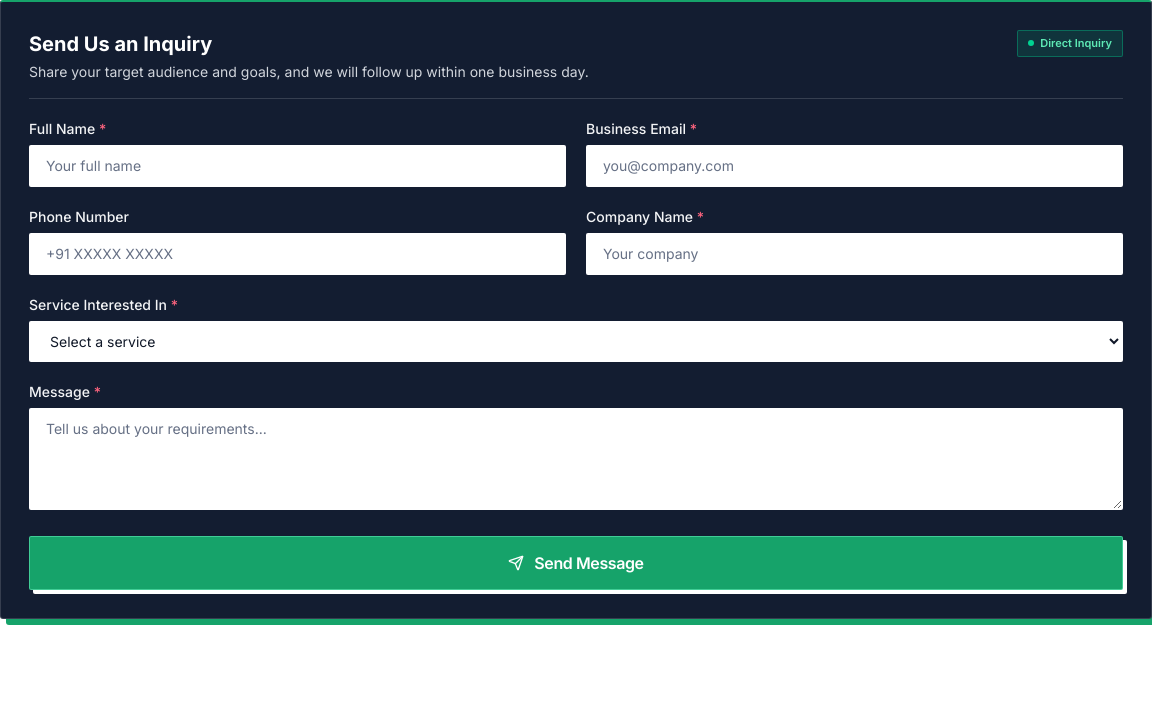
The Softnest Technologies Website & Contact Form › submits valid inquiry to Formspree endpoint with loading and success states
Later steps or results of the test are not shown.
Type "  Aarav Mehta  " into the field labelled "Full Name *" at (298, 166), box [29,145,566,187]
Type "aarav@acme.io" into the field labelled "Business Email *" at (854, 166), box [586,145,1123,187]
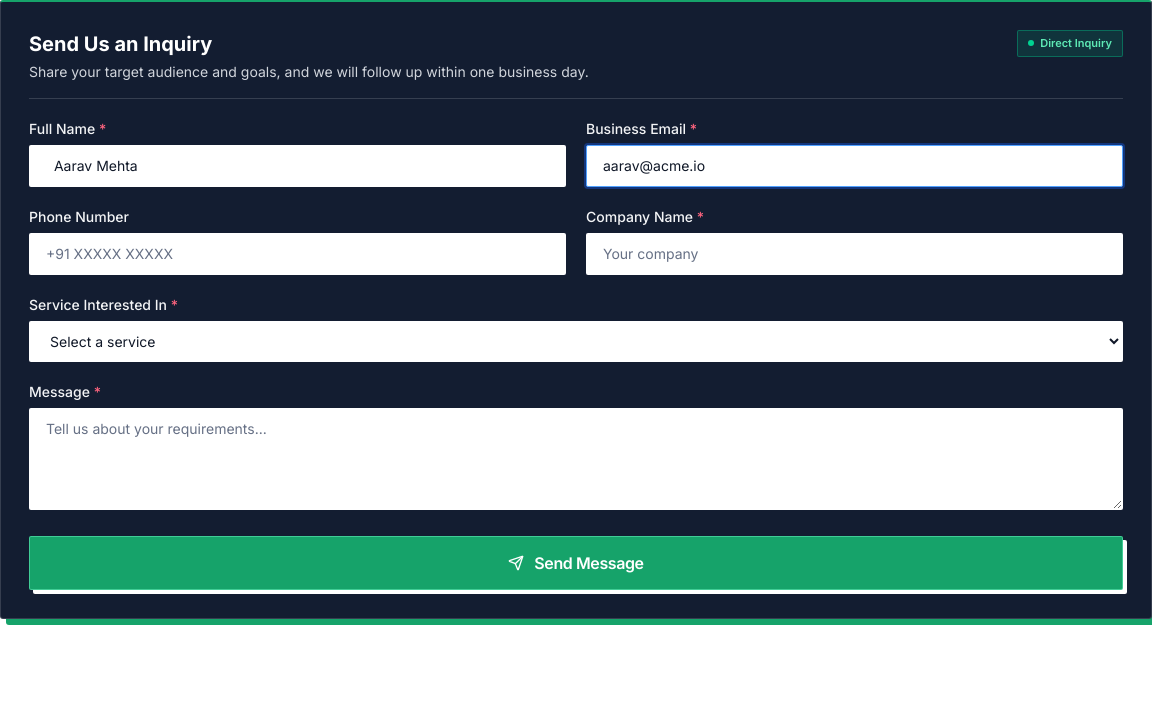
Type "+91 98765 43210" into the field labelled "Phone Number" at (298, 254), box [29,233,566,275]
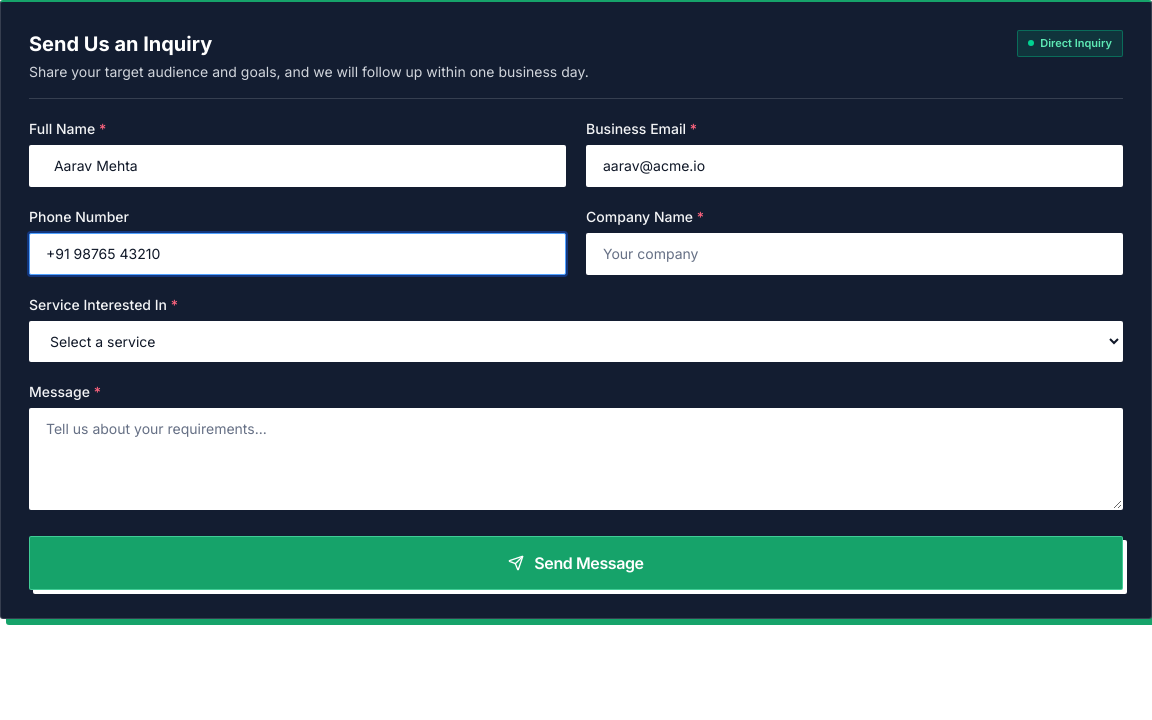
Type "Acme SaaS" into the field labelled "Company Name *" at (854, 254), box [586,233,1123,275]
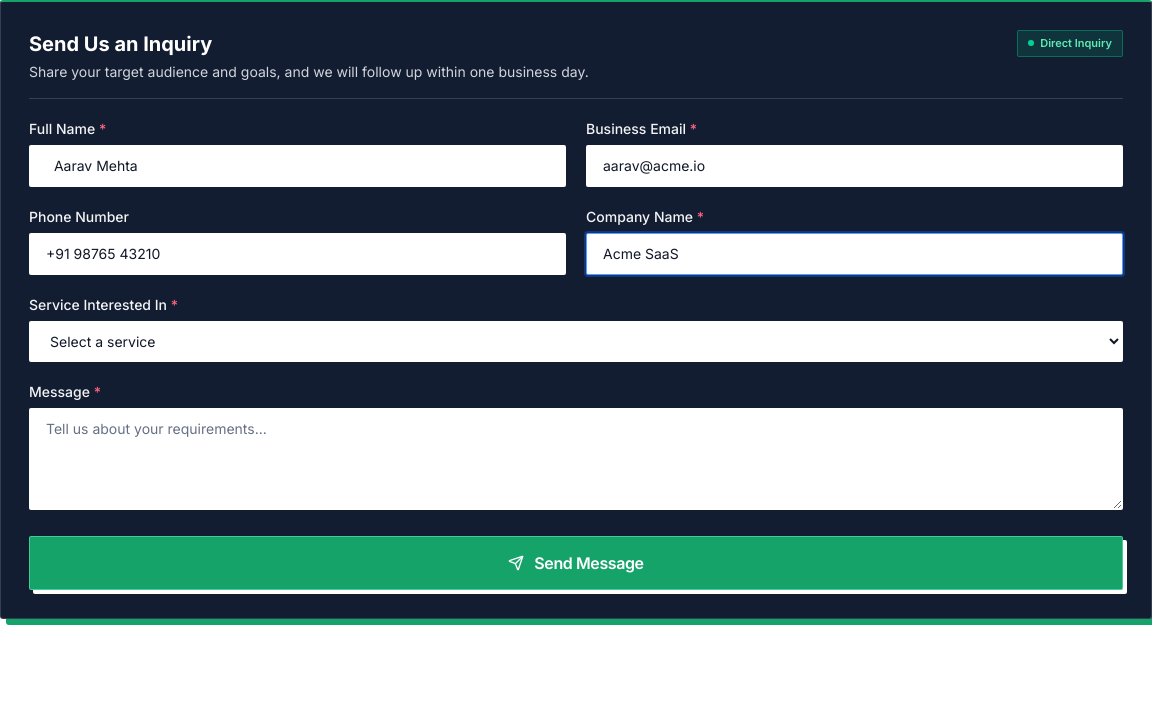
Select "IT & SaaS Lead Generation" in the dropdown labelled "Service Interested In *" at (576, 342), box [29,321,1123,362]
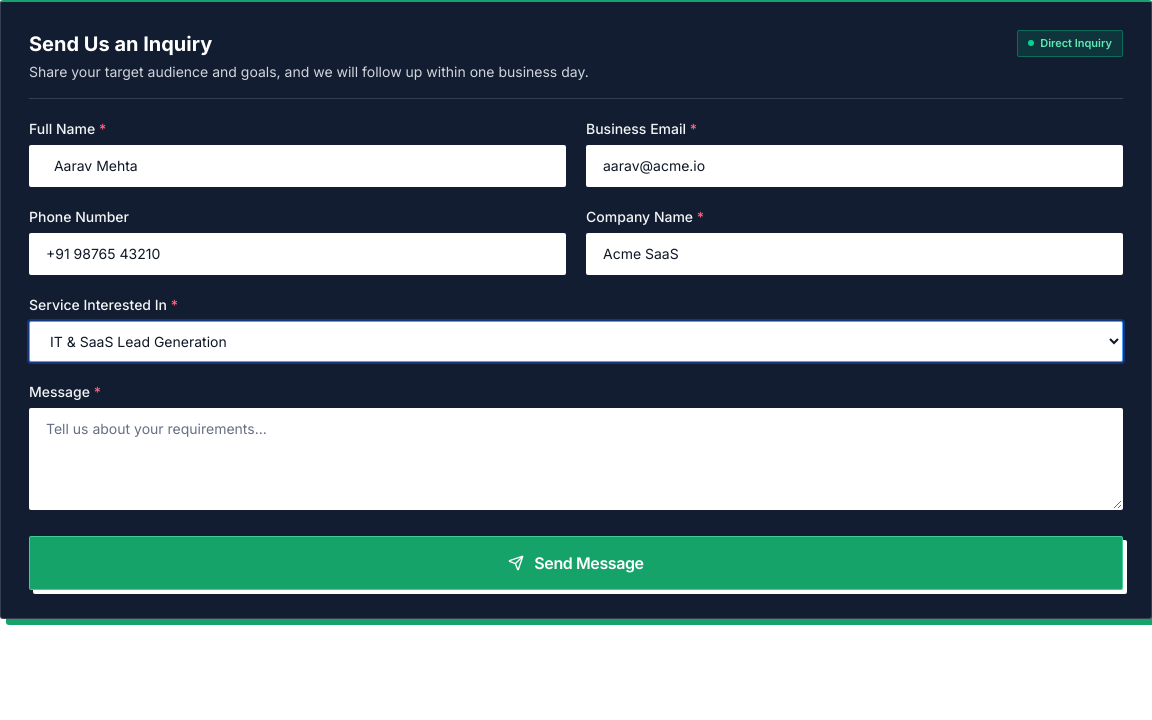
Type "Need B2B SaaS outbound leads." into the text box labelled "Message *" at (576, 459), box [29,408,1123,510]
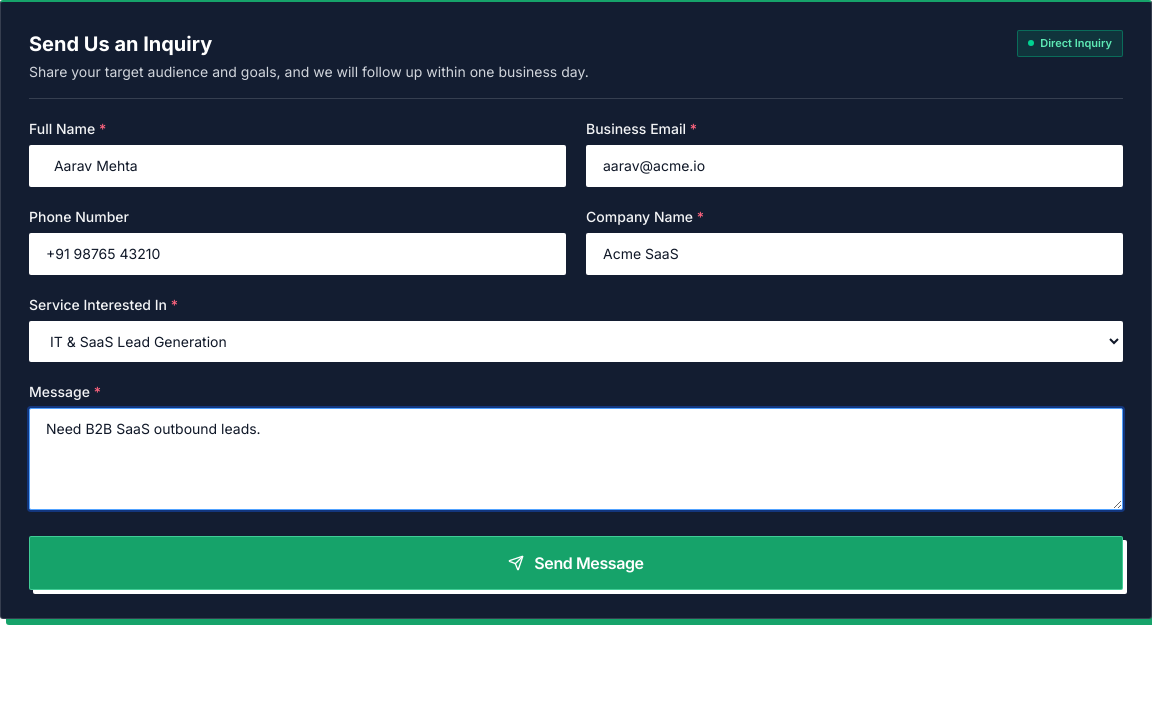
Click the button "Send Message" at (576, 563), box [29,536,1123,590]
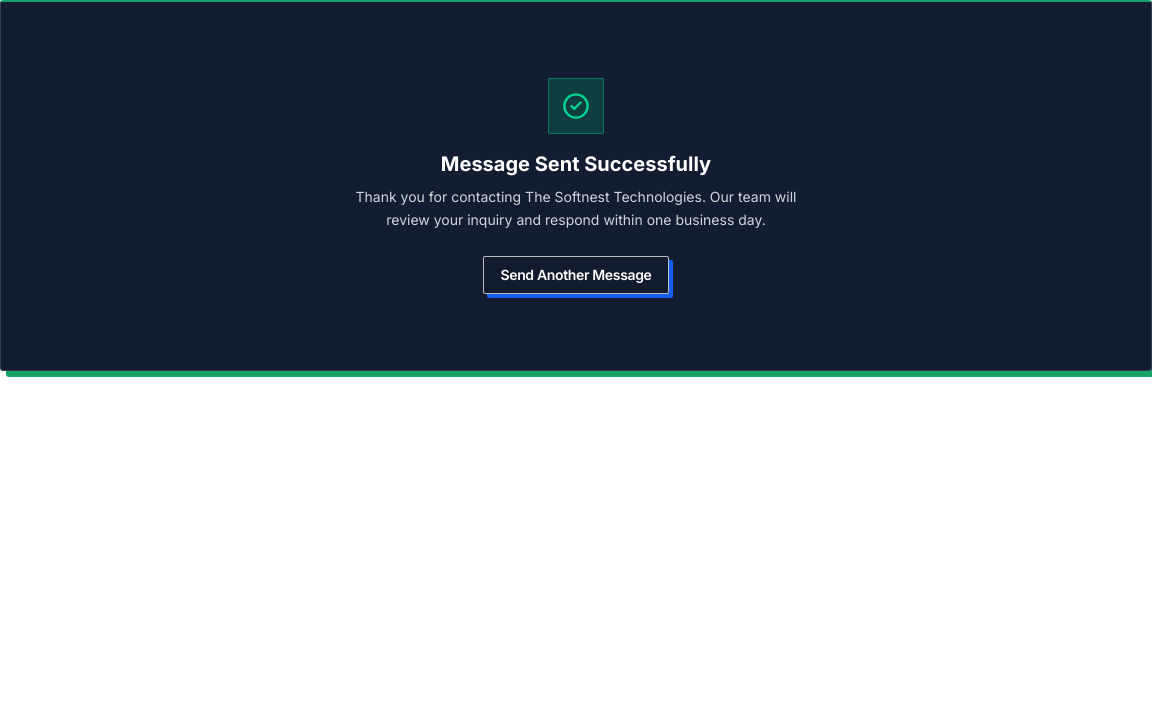
Expected: the heading "Message Sent Successfully" is shown, [441,150,711,178]
